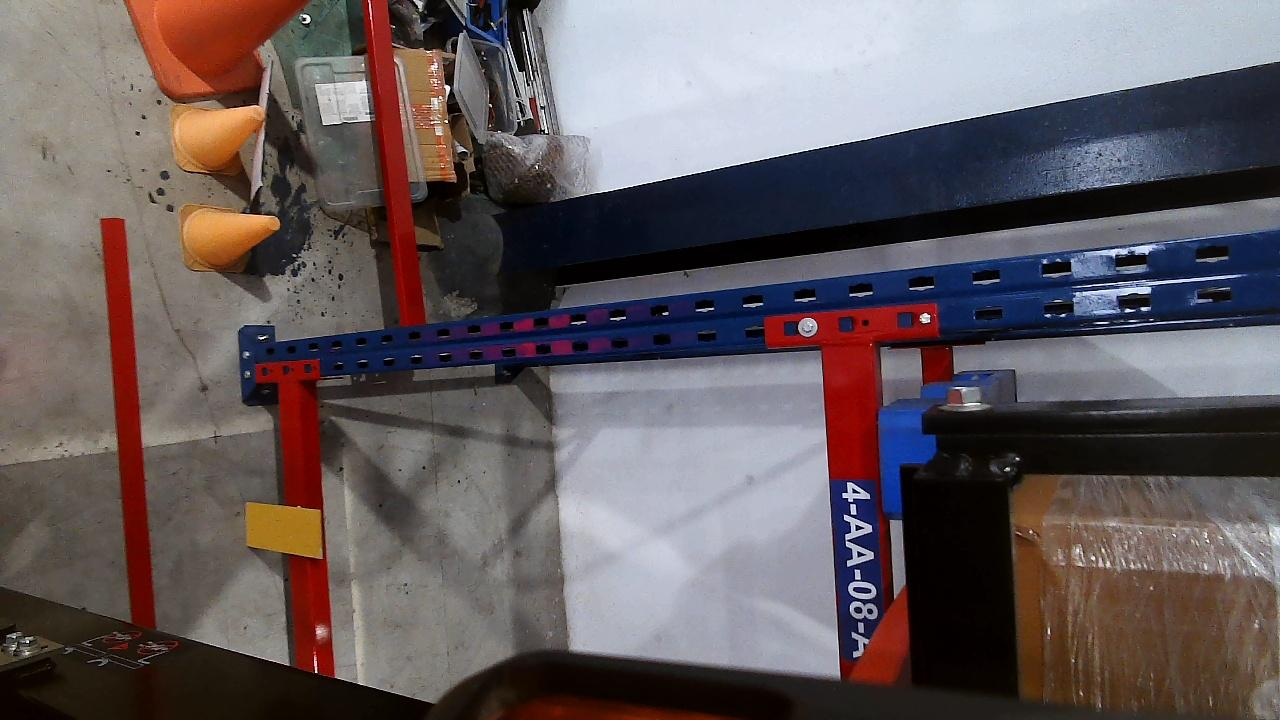h_rack: (820, 342, 900, 681), (277, 379, 324, 673)
orange_strip: (244, 501, 322, 557)
red_line: (100, 217, 155, 628)
